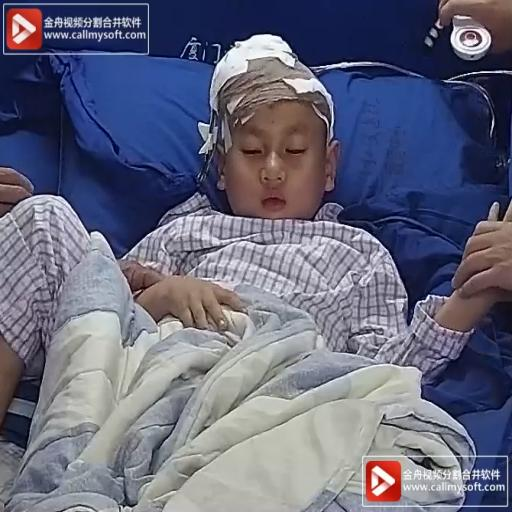Seizure: (196, 38, 353, 230)
